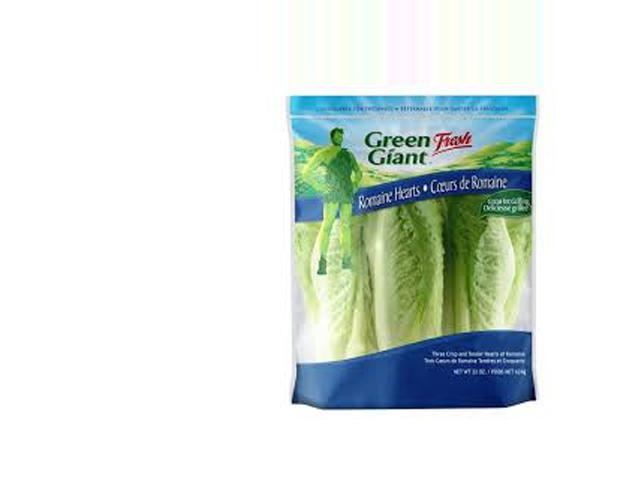lettuce: (280, 108, 538, 421)
